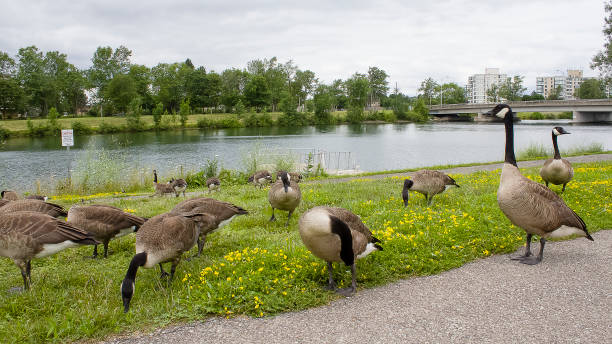goose: (484, 103, 598, 274), (1, 211, 97, 307), (296, 202, 386, 295), (117, 211, 200, 306), (61, 202, 149, 263), (170, 198, 249, 253), (397, 168, 462, 207), (540, 125, 575, 193), (267, 171, 304, 221), (1, 195, 68, 217), (150, 168, 170, 196), (246, 171, 271, 190), (200, 174, 222, 194), (169, 178, 188, 197)
